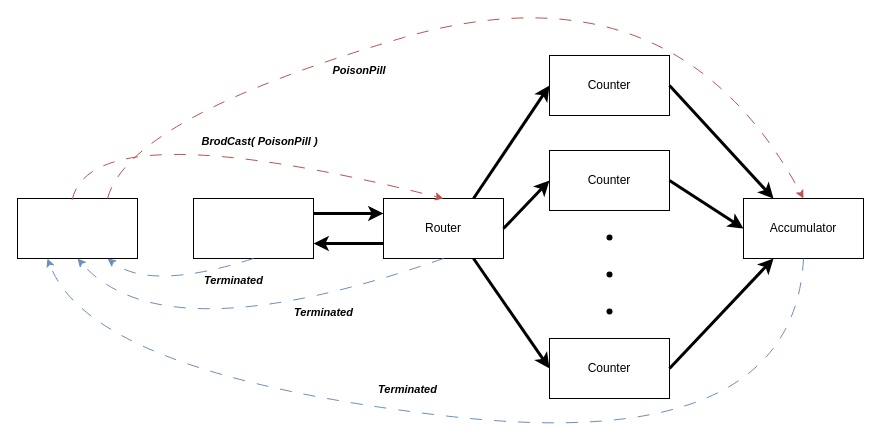
Some shapes in this 881 by 440 pixel diagram are drawn without their labels. Each missing label, with the centre of its shape:
"Generator" belongs at point 253,228.
"Master" belongs at point 77,228.
